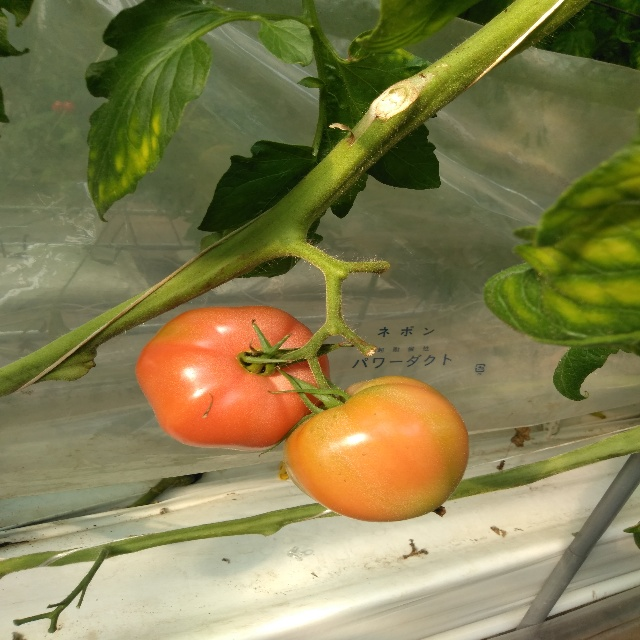b_half_ripened: (135, 305, 334, 452), (282, 376, 470, 522)
